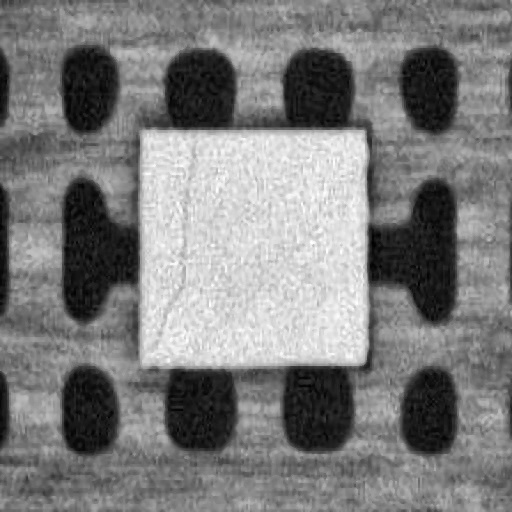DIE_CRACK: (149, 135, 195, 350)
